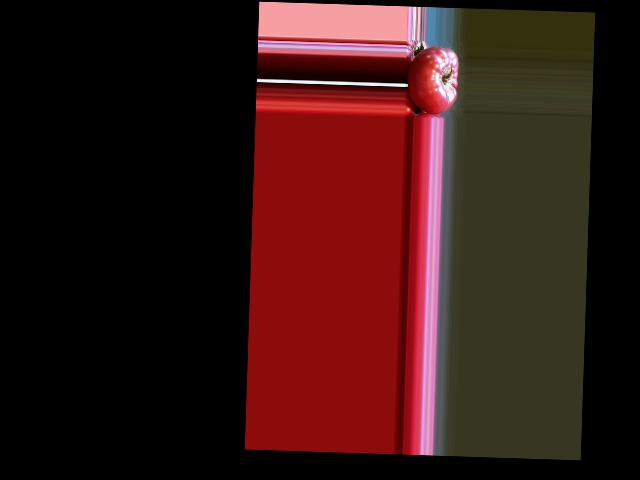tomato: (406, 46, 458, 116)
